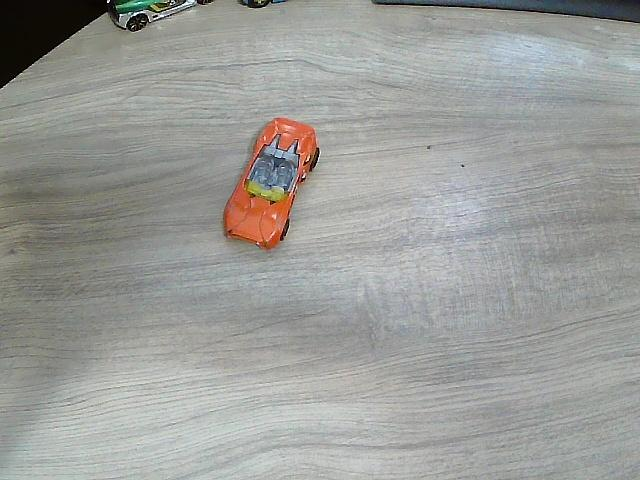Carro: (224, 118, 319, 250), (105, 0, 218, 33)
